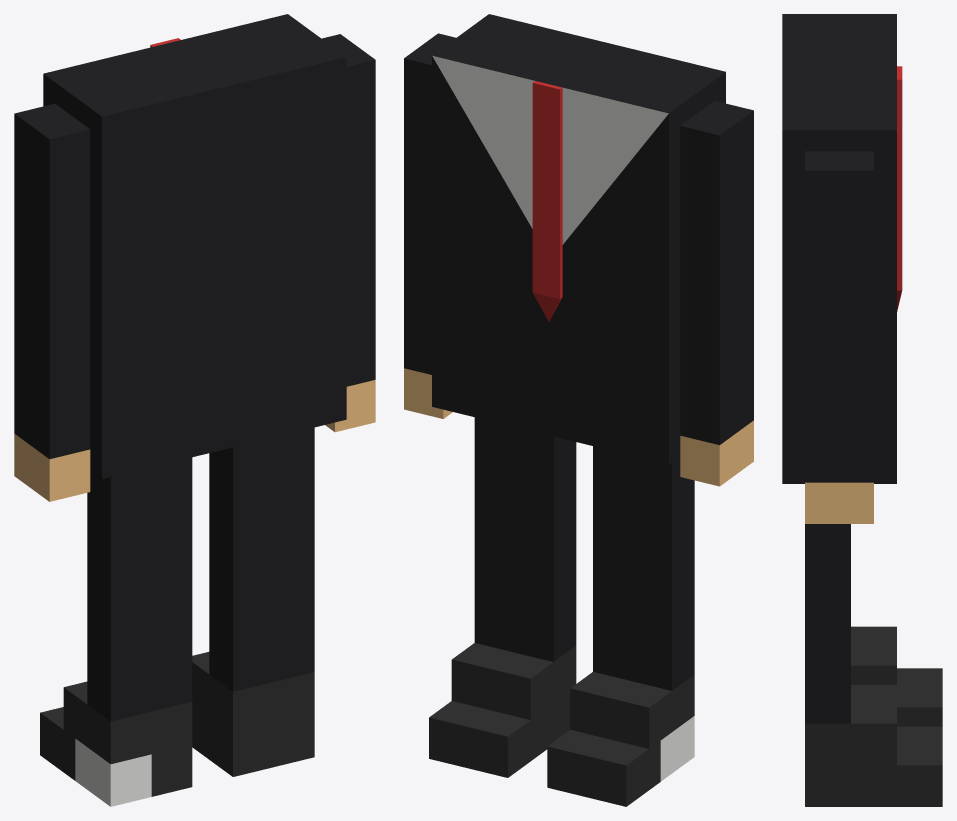
The model's file is suit-tie.glb.
3 renders of one model, left to right at view 1: azimuth 30°, elevation 25°; view 2: azimuth 150°, elevation 25°; view 3: azimuth 270°, elevation 25°, orthographic. The views are drawn at different scales.
Parts seen in each view (by area): view 1: costume; view 2: costume; view 3: costume.
Boxes of the visible parts, <box> form: costume: <box>14,14,375,806</box>; costume: <box>404,14,753,806</box>; costume: <box>782,14,942,806</box>.
Bounding box in the file's own units: 0.6788 × 1.4 × 0.297.
